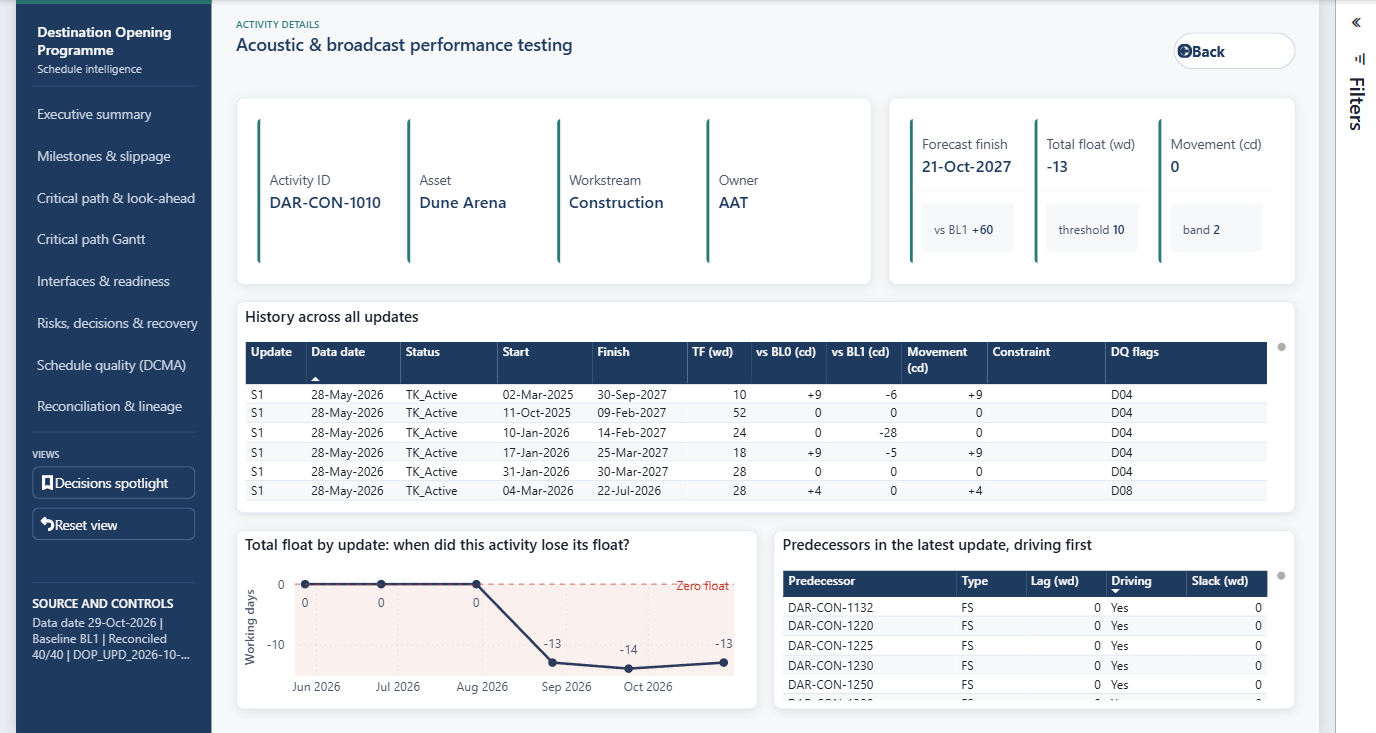

This screenshot's page, from the dashboard's own definition file:
{"tool":"powerbi","page":{"name":"Activity details","canvas":[1280,720],"ordinal":7},"visuals":[{"type":"textbox","box":[16,8,1248,56],"z":1000},{"type":"card","fields":{"Values":["Min(dim_activity.activity_name)"]},"box":[16,80,1248,48],"z":2000},{"type":"multiRowCard","title":"Activity attributes","fields":{"Values":["Min(dim_activity.activity_id)","Min(dim_activity.asset_name)","Min(dim_activity.workstream_name)","Min(dim_activity.package_name)","Min(dim_activity.owner_code)","Min(dim_activity.activity_type)","Min(dim_activity.phase)"]},"box":[16,144,832,126],"z":3000},{"type":"multiRowCard","title":"Latest update: forecast finish and float","fields":{"Values":["_Measures.Forecast finish","Min(fact_activity_snapshot.total_float_d)","_Measures.Finish variance vs BL1","_Measures.Criticality band"]},"box":[864,144,400,126],"z":4000},{"type":"tableEx","title":"History across all updates","fields":{"Values":["dim_snapshot.label","dim_snapshot.data_date","fact_activity_snapshot.status","fact_activity_snapshot.start","fact_activity_snapshot.finish","fact_activity_snapshot.total_float_d","fact_activity_snapshot.var_finish_bl0_d","fact_activity_snapshot.var_finish_bl1_d","fact_activity_snapshot.slip_vs_prev_d","fact_activity_snapshot.constraint_type","fact_activity_snapshot.dq_flags"]},"box":[16,286,1248,204],"z":5000},{"type":"lineChart","title":"Total float by data date: when did this activity lose its float?","fields":{"Category":["dim_snapshot.data_date"],"Y":["Min(fact_activity_snapshot.total_float_d)"]},"box":[16,506,616,198],"z":6000},{"type":"tableEx","title":"Predecessors in the latest update (driving first)","fields":{"Values":["fact_relationship.pred_id","fact_relationship.rel_type","fact_relationship.lag_d","fact_relationship.is_driving","fact_relationship.slack_d"]},"box":[648,506,616,198],"z":7000}]}

Visuals, with their boxes on the page's 1280x720 design canvas (x1, y1, x2, y2). These are canvas units, not pixel positions in the 1376x733 screenshot, which may show the page scaled, cropped or inside an application window:
textbox: 16:8:1264:64
card - Min(dim_activity.activity_name): 16:80:1264:128
"Activity attributes" multiRowCard: 16:144:848:270
"Latest update: forecast finish and float" multiRowCard: 864:144:1264:270
"History across all updates" tableEx: 16:286:1264:490
"Total float by data date: when did this activity lose its float?" lineChart: 16:506:632:704
"Predecessors in the latest update (driving first)" tableEx: 648:506:1264:704
